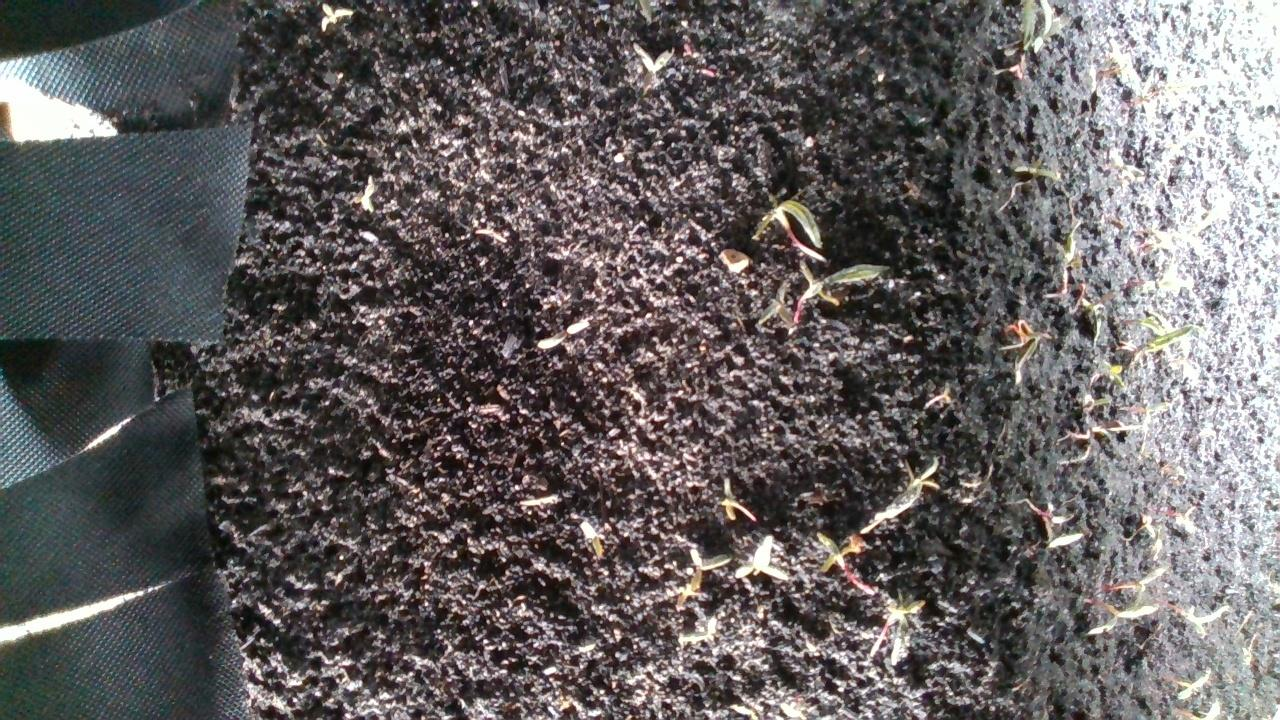weed: (707, 479, 757, 526), (307, 0, 363, 41), (545, 316, 590, 355), (353, 181, 387, 227), (512, 489, 566, 514)
